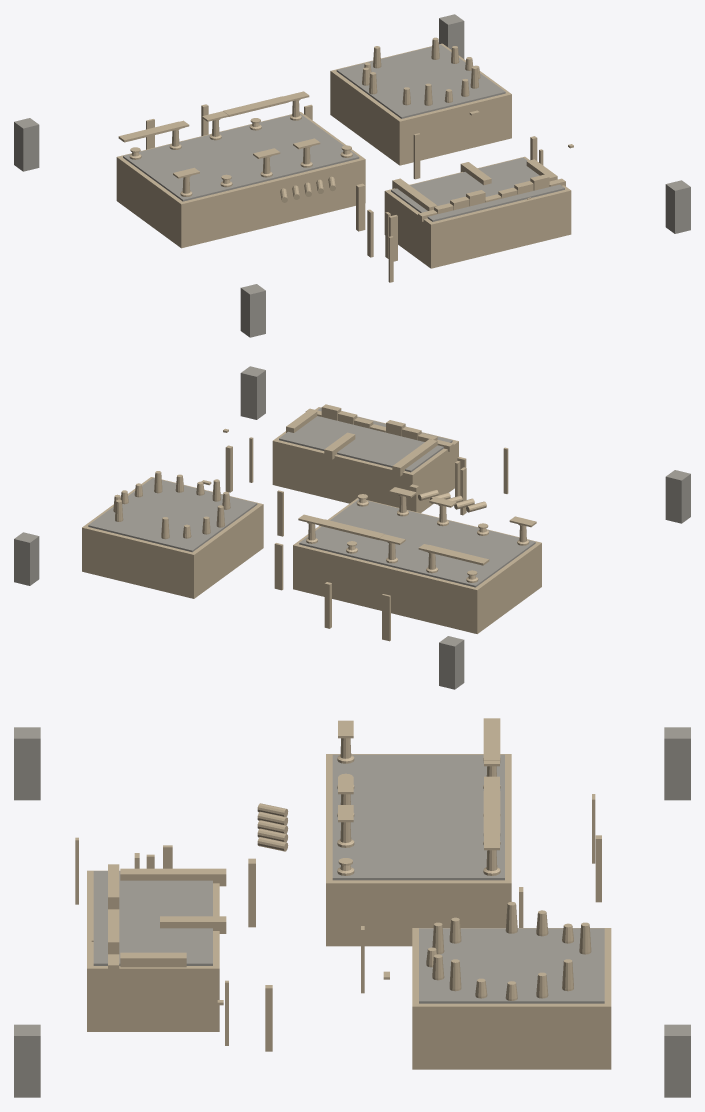
Rendered from top-prebuilt.fbx.
3 views of the same model, one above another, from view 1: azimuth 30°, elevation 25°; view 2: azimuth 150°, elevation 25°; view 3: azimuth 270°, elevation 25° (orthographic). The views are drawn at different scales.
Parts seen in each view (by area): view 1: landmark-ancient_ruins/0/top-prebuilt; view 2: landmark-ancient_ruins/0/top-prebuilt; view 3: landmark-ancient_ruins/0/top-prebuilt.
Part boxes in pixels (<box>): landmark-ancient_ruins/0/top-prebuilt: <box>14,14,690,337</box>; landmark-ancient_ruins/0/top-prebuilt: <box>14,366,690,689</box>; landmark-ancient_ruins/0/top-prebuilt: <box>14,718,690,1097</box>.
Bounding box in the file's own units: 110 × 16.25 × 102.
